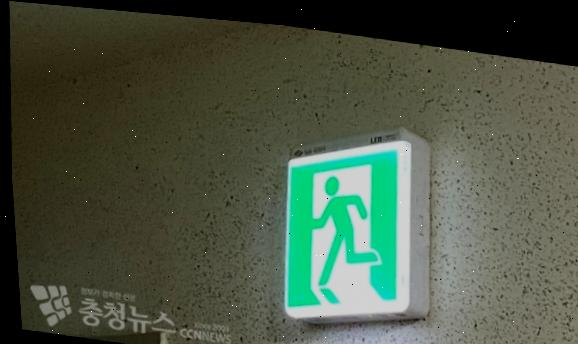emergency_exit: (282, 127, 432, 324)
